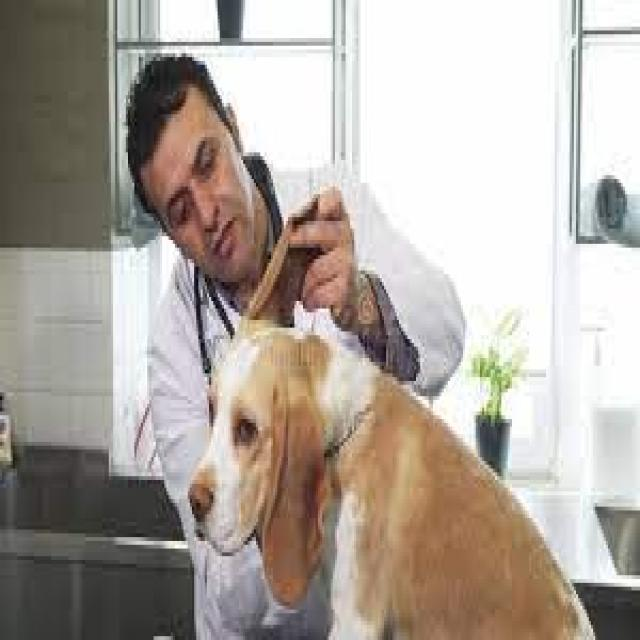Dog: (182, 303, 599, 640)
